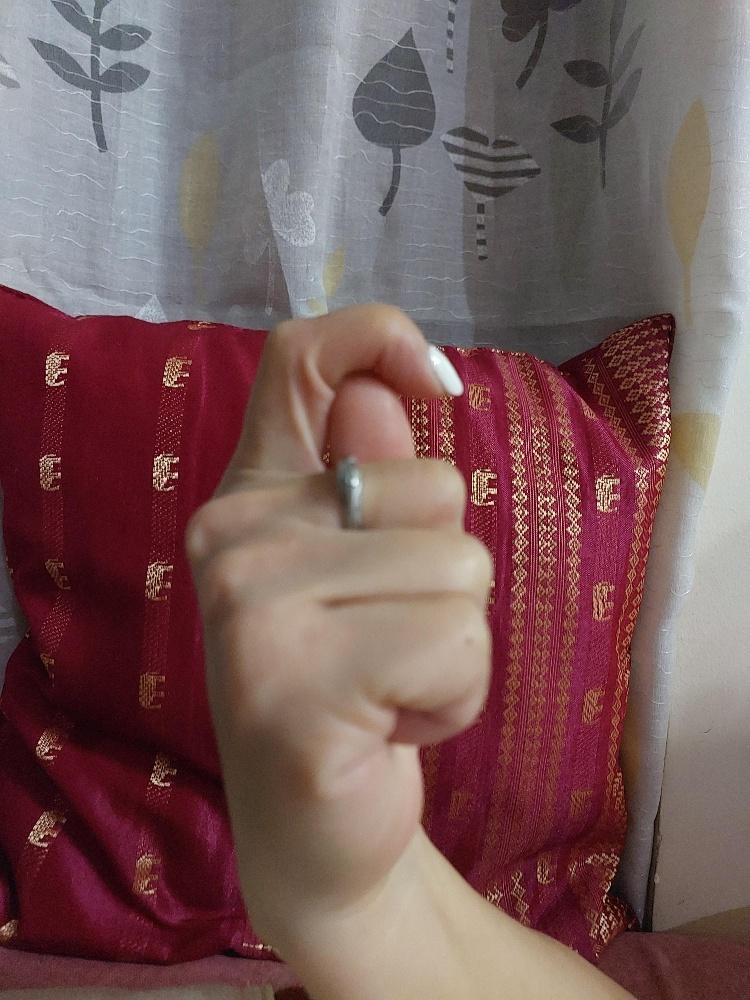t: (179, 298, 499, 913)
